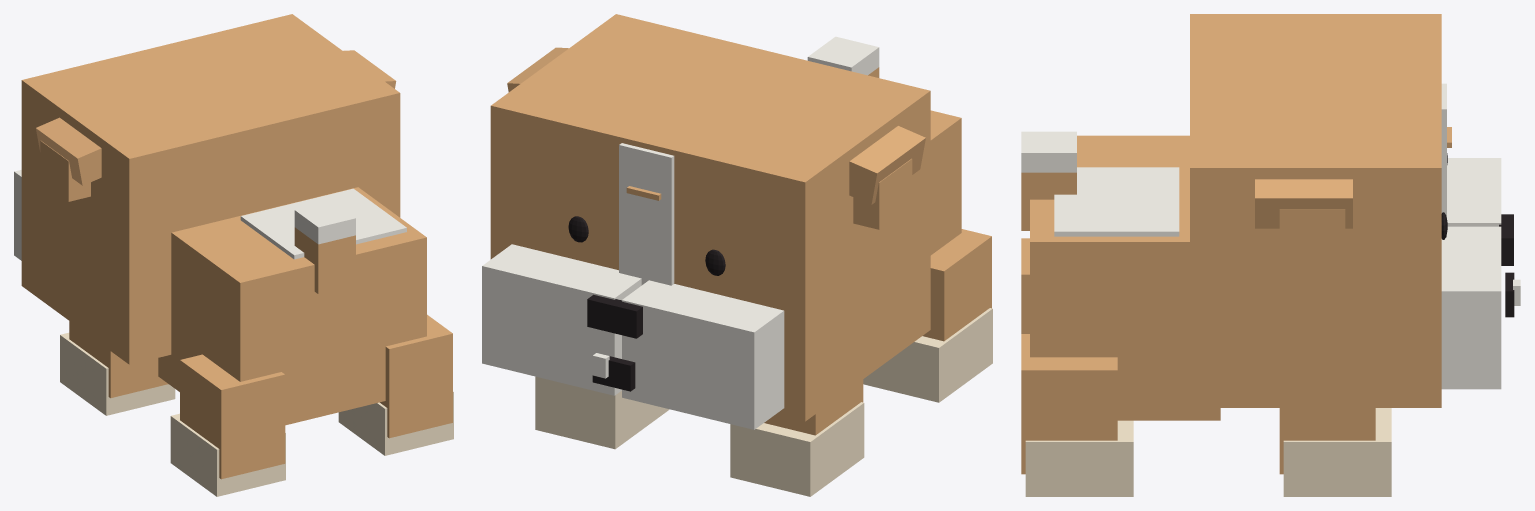
Rendered from Bulldog_Block.glb.
3 renders of one model, left to right at view 1: azimuth 30°, elevation 25°; view 2: azimuth 150°, elevation 25°; view 3: azimuth 270°, elevation 25°, orthographic. The views are drawn at different scales.
Visible parts, largest first — view 1: BigHead, ShortTorso, LegBL_Leg, LegBR_Leg, BackWhitePatch, LegBL_Paw, LegFL_Paw, LegBR_Paw, TailRoot, LegFL_Leg, FoldEarL, TailWhiteTip (+2 smaller); view 2: BigHead, PuffedCheekL, PuffedCheekR, LegFL_Paw, FaceBlaze, LegBL_Paw, LegFR_Paw, LegBL_Leg, ShortTorso, FoldEarL, FoldEarTipL, SquareNose (+4 smaller); view 3: BigHead, ShortTorso, PuffedCheekR, LegBR_Leg, BackWhitePatch, LegFR_Paw, LegBR_Paw, PuffedCheekL, FoldEarR, LegFR_Leg, FoldEarTipR, TailWhiteTip (+4 smaller).
Part boxes in pixels (x1,y1,x2,y2): BigHead: (21, 14, 400, 364); ShortTorso: (158, 187, 426, 425); LegBL_Leg: (180, 354, 285, 479); LegBR_Leg: (380, 314, 452, 438); BackWhitePatch: (240, 188, 406, 259); LegBL_Paw: (170, 413, 285, 496); LegFL_Paw: (60, 332, 175, 415); LegBR_Paw: (338, 391, 453, 455); TailRoot: (294, 227, 355, 294); LegFL_Leg: (69, 321, 168, 398); FoldEarL: (36, 117, 101, 185); TailWhiteTip: (294, 201, 355, 244); BigHead: (490, 14, 930, 421); PuffedCheekL: (622, 280, 784, 429); PuffedCheekR: (482, 244, 641, 395); LegFL_Paw: (730, 402, 864, 496); FaceBlaze: (619, 143, 674, 285); LegBL_Paw: (863, 308, 992, 402); LegFR_Paw: (535, 376, 669, 449); LegBL_Leg: (923, 229, 991, 341); ShortTorso: (930, 110, 961, 255); FoldEarL: (849, 126, 925, 204); FoldEarTipL: (853, 158, 912, 229); SquareNose: (587, 294, 642, 338); BigHead: (1190, 14, 1441, 407); ShortTorso: (1030, 135, 1220, 420); PuffedCheekR: (1441, 226, 1501, 389); LegBR_Leg: (1021, 334, 1117, 474); BackWhitePatch: (1054, 167, 1179, 236); LegFR_Paw: (1283, 408, 1391, 496); LegBR_Paw: (1025, 420, 1133, 496); PuffedCheekL: (1447, 158, 1501, 226); FoldEarR: (1255, 179, 1352, 228); LegFR_Leg: (1279, 408, 1375, 474); FoldEarTipR: (1279, 209, 1345, 257); TailWhiteTip: (1021, 131, 1076, 172).
Bounding box in the file's own units: 2.54 × 2.22 × 2.96.
